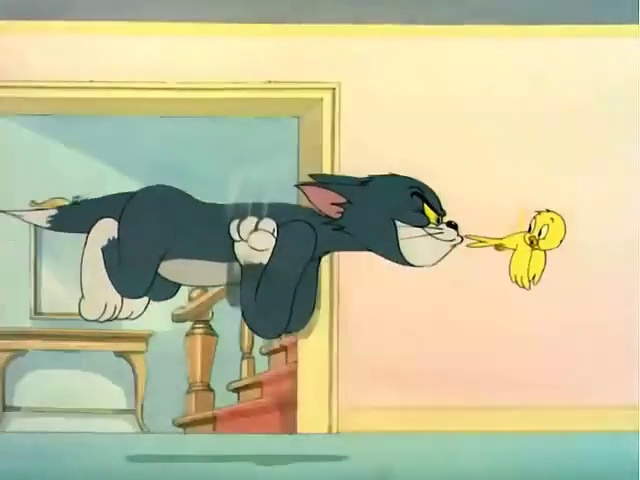tom: (9, 124, 479, 365)
